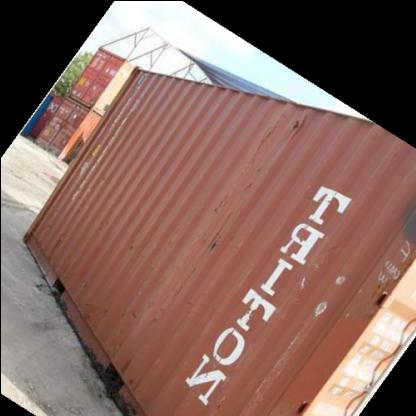Damage: (298, 240, 352, 332), (203, 183, 239, 279), (369, 233, 410, 304), (252, 103, 310, 147), (115, 238, 140, 252)
